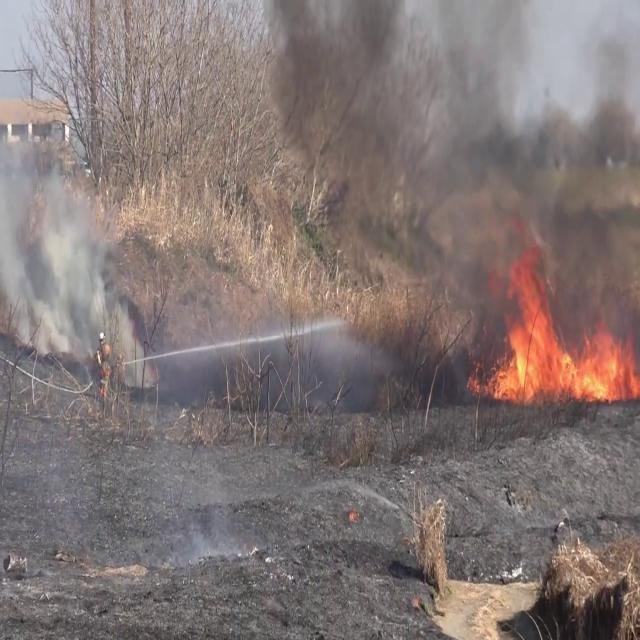Fire: (482, 258, 640, 406)
Smoke: (423, 1, 640, 313), (0, 61, 133, 367), (254, 0, 426, 236)
